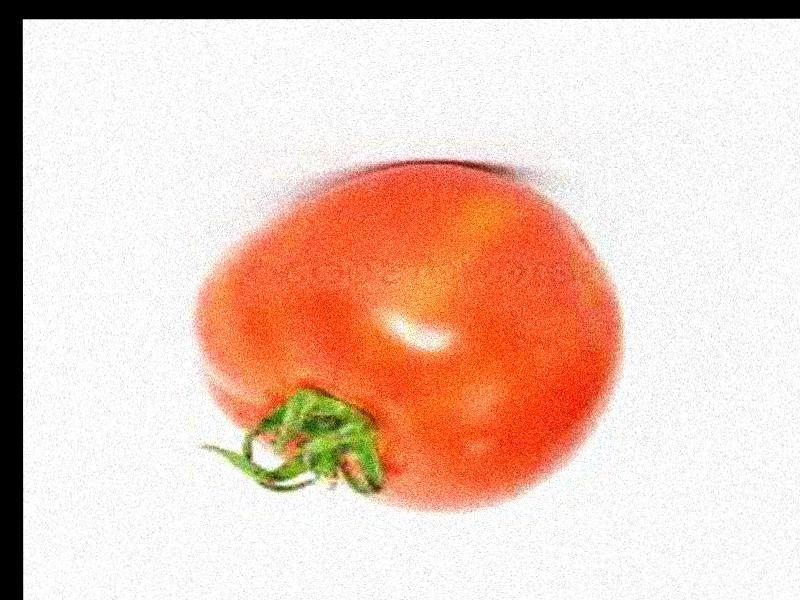Tomato: (194, 163, 621, 518)
